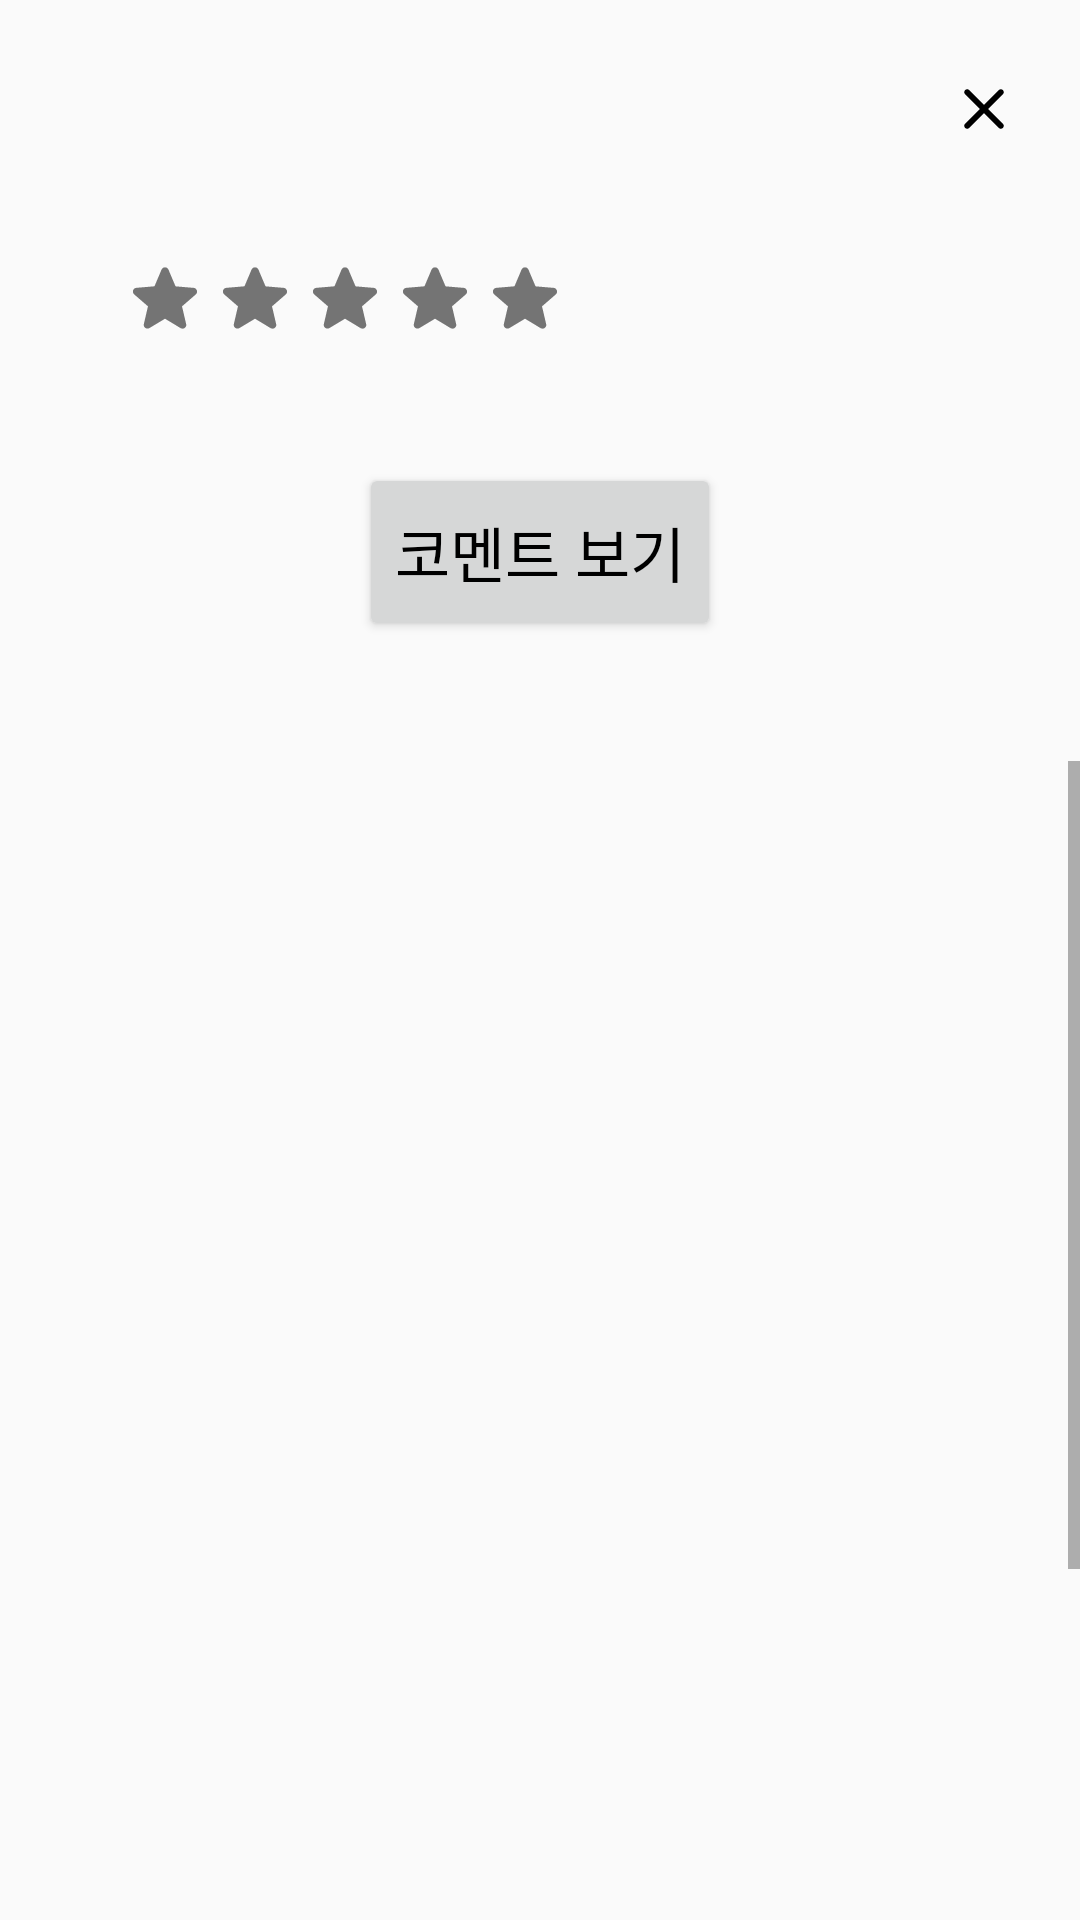

Point at icon controls on the screen. Image size 1080×1920, points as (x=x, y=y).
close: (x=984, y=109)
star: (x=165, y=298), (x=255, y=298), (x=345, y=298), (x=435, y=298), (x=525, y=298)
